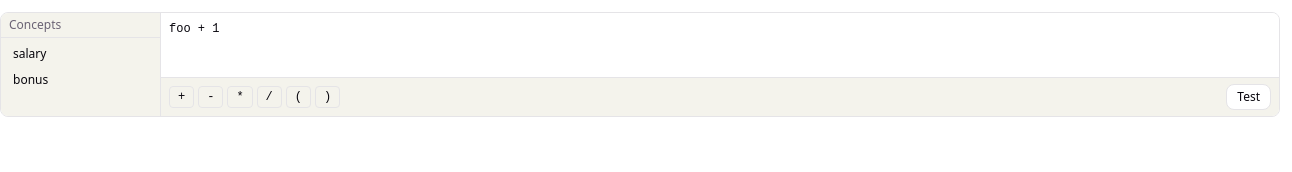
Test case: FormulaEditor › shows error message when preview returns error
Click the button "Test": (1249, 97) 1226,84 -> 1271,110
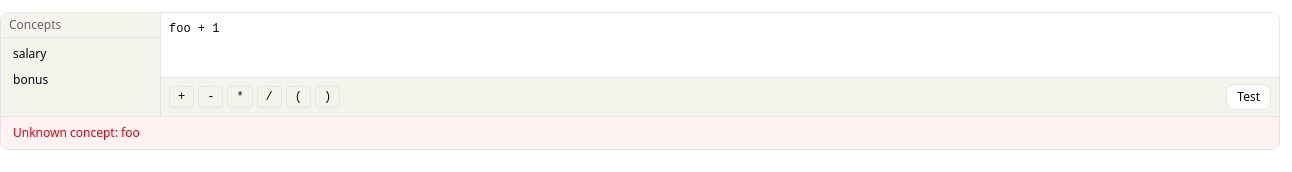
Now the text "Unknown concept: foo" is shown, box 13,124 -> 140,141
